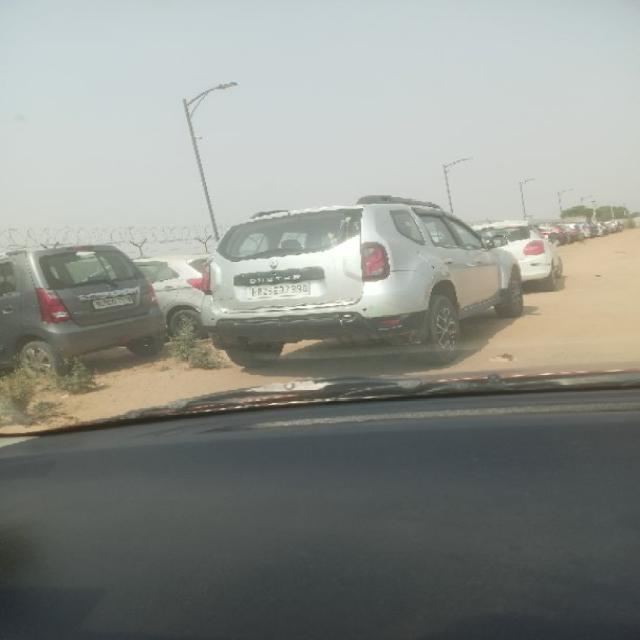license_plate: (243, 281, 310, 298), (90, 293, 135, 310)
